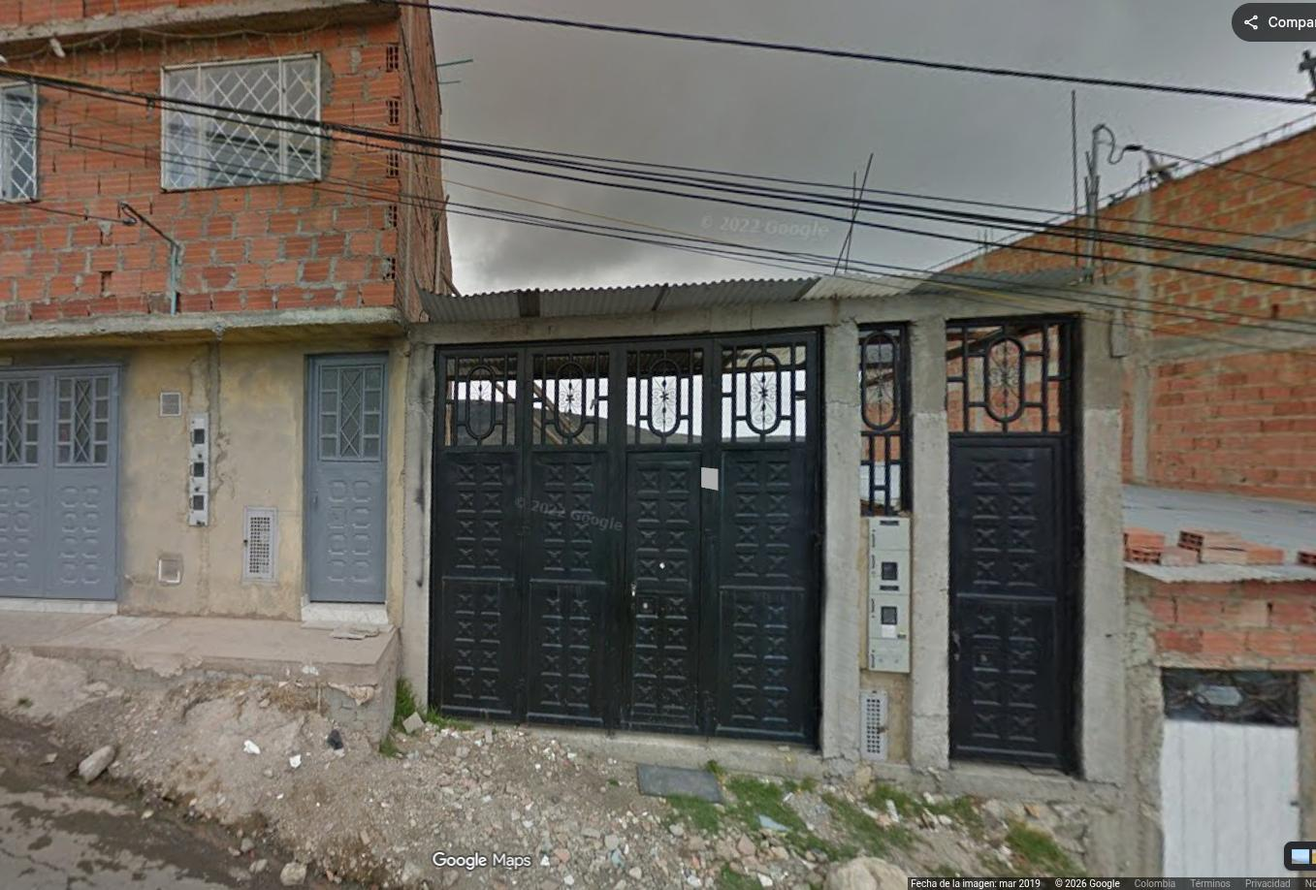casa: (404, 270, 1124, 782), (0, 0, 449, 615)
